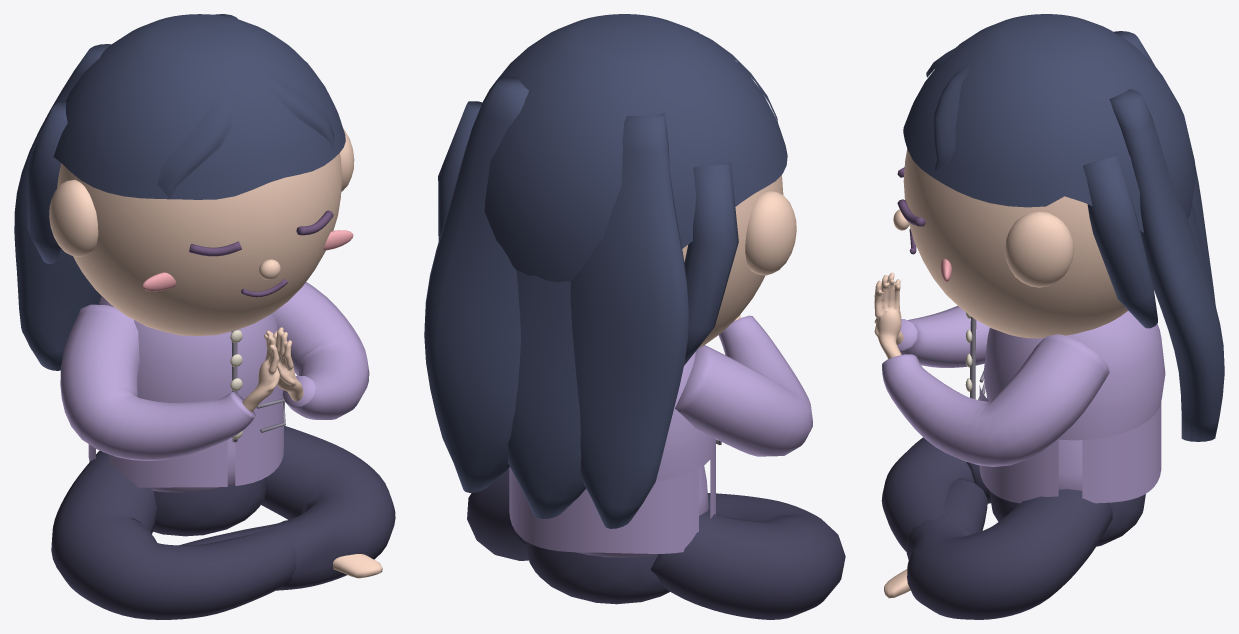
Rendered from meditator_female_cross_prayer_p05e.glb.
3 renders of one model, left to right at view 1: azimuth 30°, elevation 25°; view 2: azimuth 150°, elevation 25°; view 3: azimuth 270°, elevation 25°, orthographic. The views are drawn at different scales.
Visible parts, largest first — view 1: hair_blue_black_UpperBodyBreath_object, ao_ba_ba_pants_SeatRoot_object, ao_ba_ba_top_UpperBodyBreath_object, skin_rose_cream_UpperBodyBreath_object, eyes_mauve_UpperBodyBreath_object, skin_rose_cream_SeatRoot_ankle_instep_toes_p05e_object, skin_blush_UpperBodyBreath_object; view 2: hair_blue_black_UpperBodyBreath_object, ao_ba_ba_pants_SeatRoot_object, ao_ba_ba_top_UpperBodyBreath_object, skin_rose_cream_UpperBodyBreath_object; view 3: hair_blue_black_UpperBodyBreath_object, ao_ba_ba_top_UpperBodyBreath_object, ao_ba_ba_pants_SeatRoot_object, skin_rose_cream_UpperBodyBreath_object, ao_ba_ba_placket_UpperBodyBreath_object, eyes_mauve_UpperBodyBreath_object, skin_rose_cream_SeatRoot_ankle_instep_toes_p05e_object.
Boxes of the visible parts, left/top/right/bottom form: hair_blue_black_UpperBodyBreath_object: left=14, top=14, right=345, bottom=370; ao_ba_ba_pants_SeatRoot_object: left=51, top=425, right=395, bottom=619; ao_ba_ba_top_UpperBodyBreath_object: left=60, top=282, right=369, bottom=492; skin_rose_cream_UpperBodyBreath_object: left=49, top=129, right=354, bottom=412; eyes_mauve_UpperBodyBreath_object: left=189, top=210, right=333, bottom=297; skin_rose_cream_SeatRoot_ankle_instep_toes_p05e_object: left=333, top=554, right=382, bottom=578; skin_blush_UpperBodyBreath_object: left=142, top=230, right=353, bottom=291; hair_blue_black_UpperBodyBreath_object: left=424, top=14, right=787, bottom=528; ao_ba_ba_pants_SeatRoot_object: left=467, top=468, right=845, bottom=619; ao_ba_ba_top_UpperBodyBreath_object: left=509, top=315, right=812, bottom=557; skin_rose_cream_UpperBodyBreath_object: left=682, top=175, right=796, bottom=348; hair_blue_black_UpperBodyBreath_object: left=903, top=14, right=1224, bottom=441; ao_ba_ba_top_UpperBodyBreath_object: left=882, top=306, right=1165, bottom=503; ao_ba_ba_pants_SeatRoot_object: left=881, top=437, right=1145, bottom=619; skin_rose_cream_UpperBodyBreath_object: left=874, top=149, right=1127, bottom=359; ao_ba_ba_placket_UpperBodyBreath_object: left=970, top=317, right=985, bottom=400; eyes_mauve_UpperBodyBreath_object: left=897, top=167, right=925, bottom=254; skin_rose_cream_SeatRoot_ankle_instep_toes_p05e_object: left=884, top=569, right=910, bottom=598.
Bounding box in the file's own units: 0.7292 × 1.16 × 0.6886.
